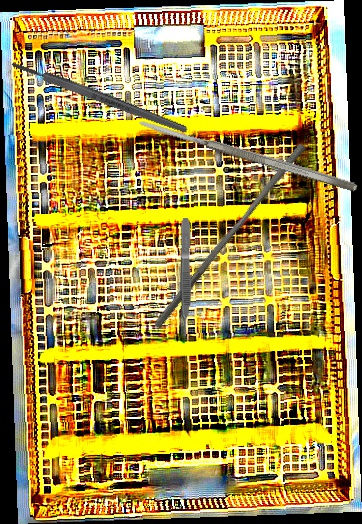Pusher: (153, 137, 307, 335)
Scalpel Handle: (9, 58, 190, 136)
Spatula Surgical: (136, 115, 359, 195)
Tissue Forceps: (177, 217, 193, 337)
